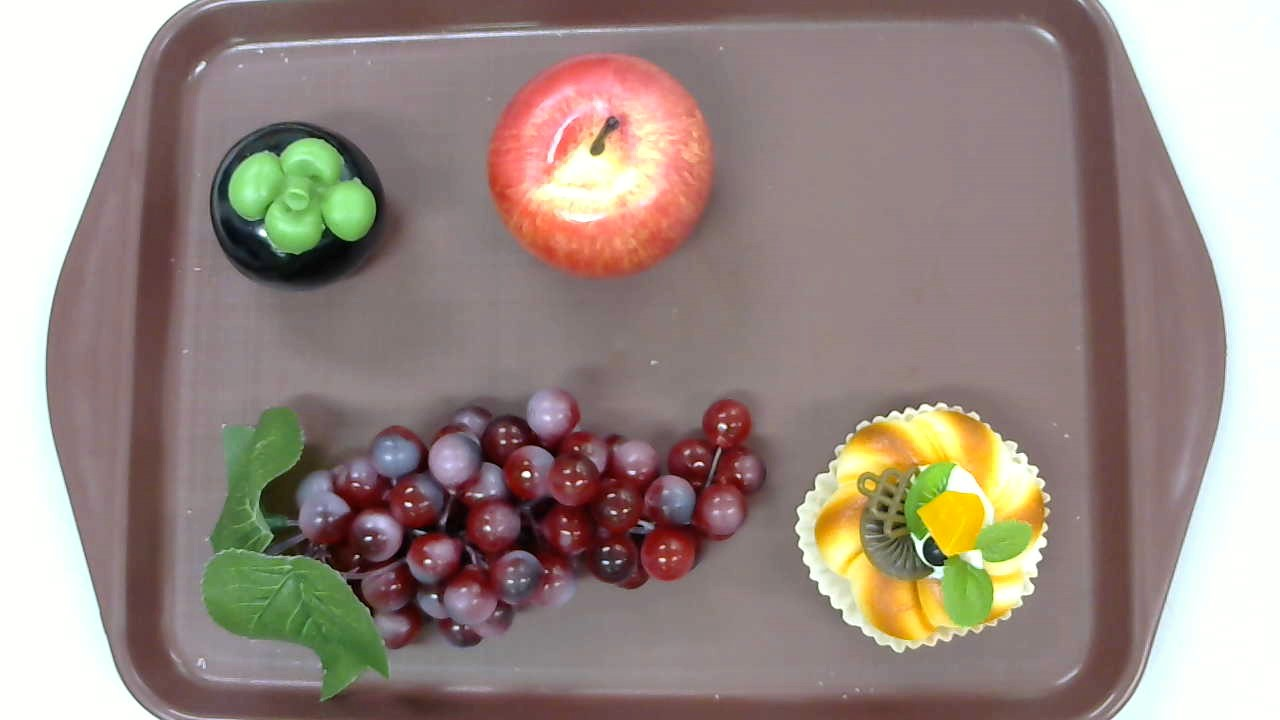fruit tower: (795, 402, 1052, 653)
grape: (201, 387, 766, 704)
mangosteen: (209, 122, 385, 291)
red apple: (486, 53, 717, 282)
